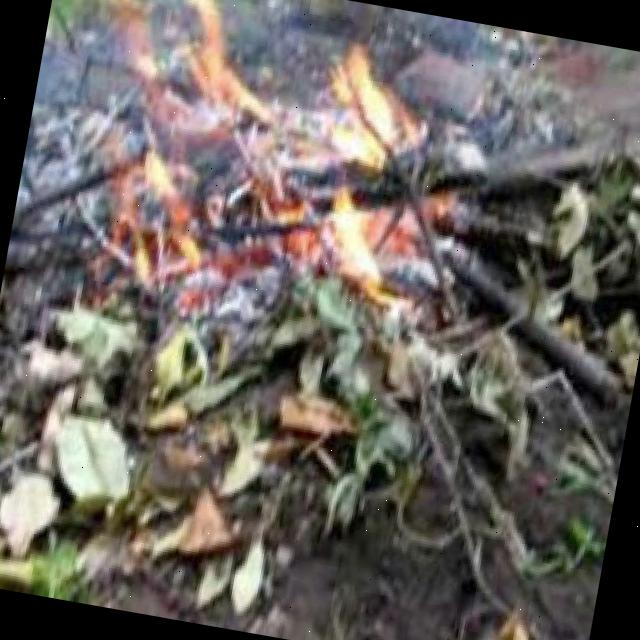fire: (74, 0, 462, 311)
